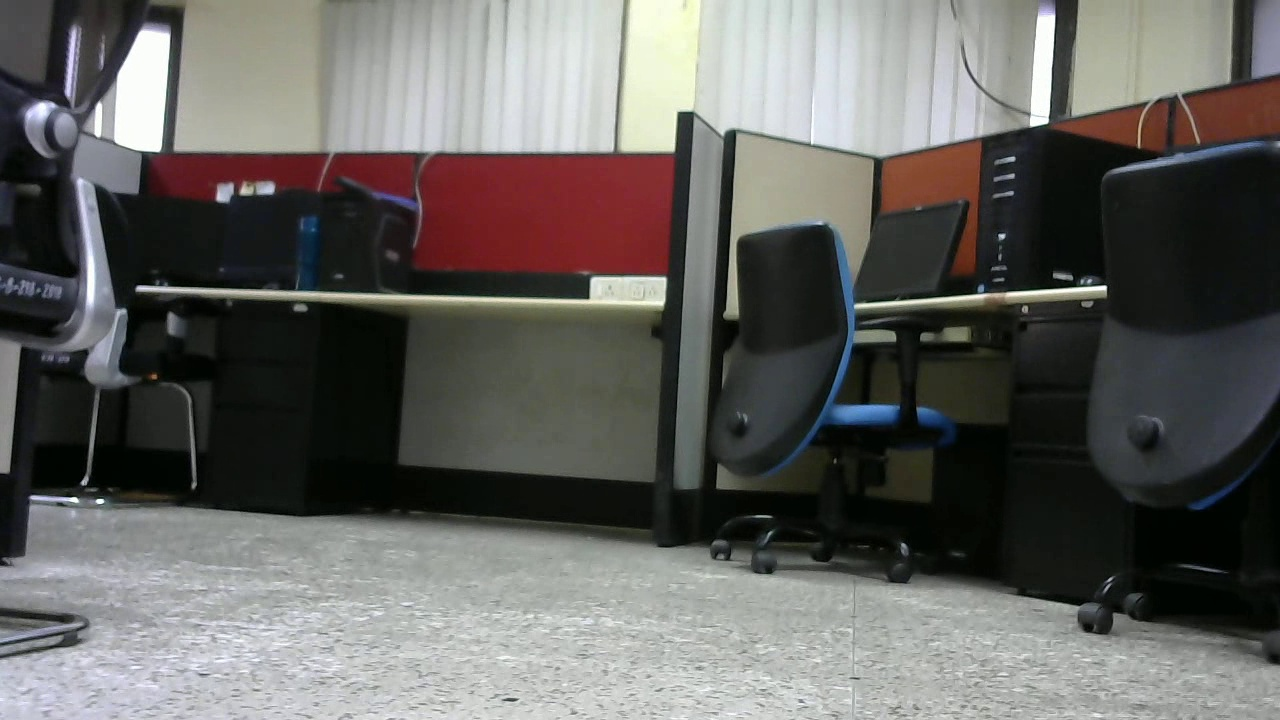chair: (696, 218, 958, 587)
